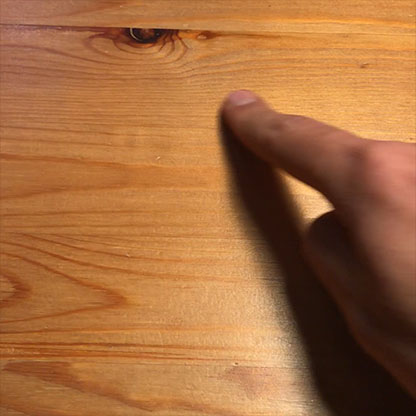fingertip: (216, 81, 268, 118)
